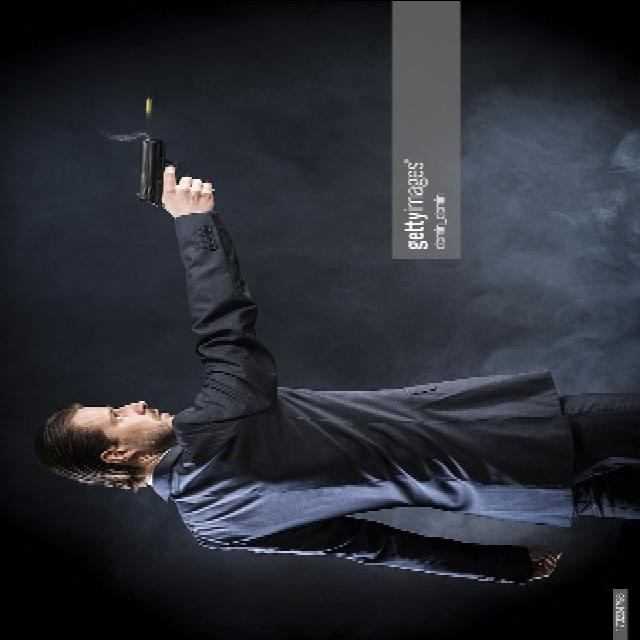handgun: (134, 133, 172, 211)
